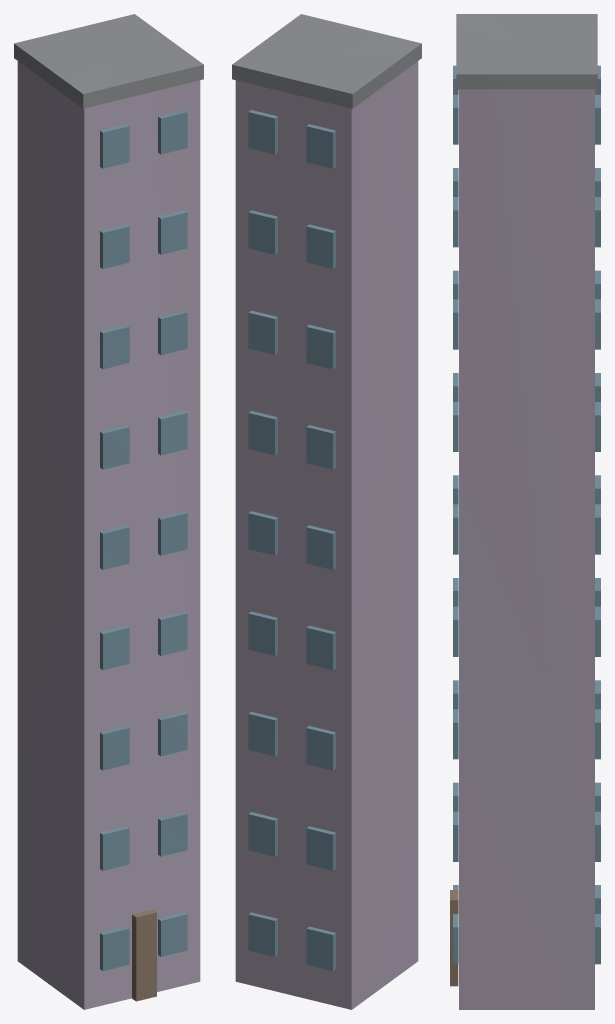
Rendered from lighthouse-02.glb.
The picture shows the model from 3 angles, left to right: view 1: azimuth 30°, elevation 25°; view 2: azimuth 150°, elevation 25°; view 3: azimuth 270°, elevation 25°; orthographic projection. The views are drawn at different scales.
Parts seen in each view (by area): view 1: world; view 2: world; view 3: world.
Part boxes in pixels (x1=…): world: x1=14, y1=14, x2=203, y2=1009; world: x1=232, y1=14, x2=421, y2=1009; world: x1=450, y1=14, x2=600, y2=1009.
Bounding box in the file's own units: 0.6017 × 4.37 × 0.6373.
